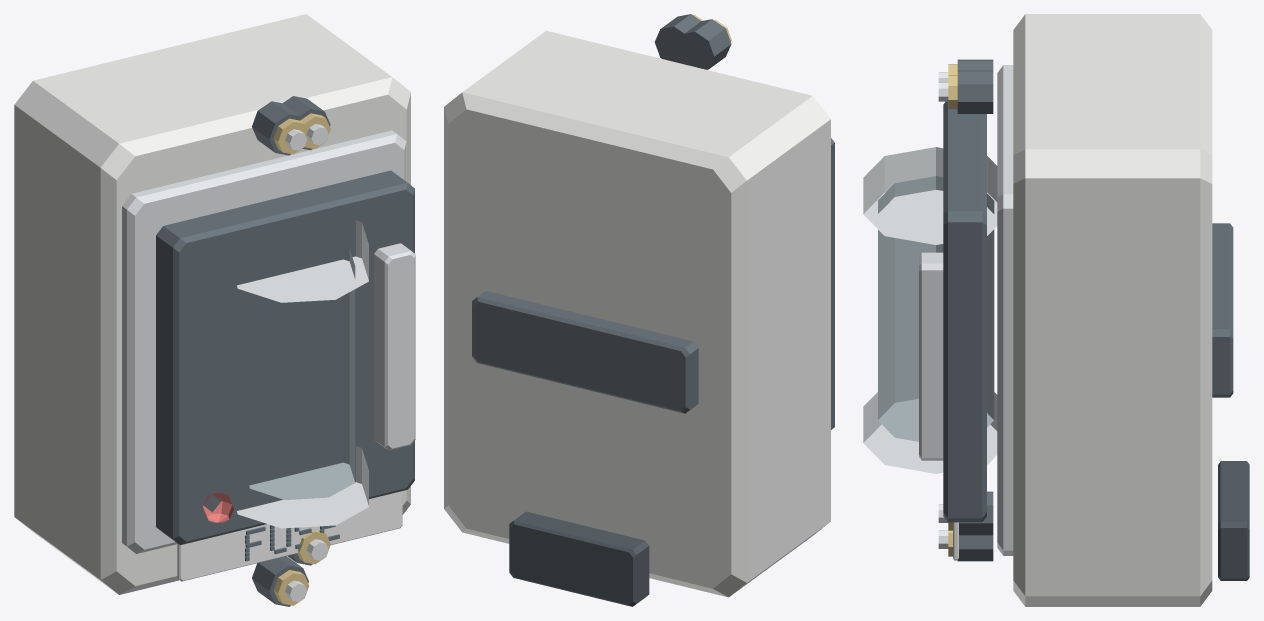
The model's file is fuse.glb.
3 views of the same model, side by side, from view 1: azimuth 30°, elevation 25°; view 2: azimuth 150°, elevation 25°; view 3: azimuth 270°, elevation 25° (orthographic). The views are drawn at different scales.
Parts seen in each view (by area): view 1: fuse-board; view 2: fuse-board; view 3: fuse-board.
Boxes of the visible parts, x1=… form: fuse-board: x1=14, y1=14, x2=415, y2=606; fuse-board: x1=444, y1=14, x2=834, y2=606; fuse-board: x1=863, y1=14, x2=1249, y2=606.
Size of the model in its own units: 1.5 by 2.27 by 1.59.
